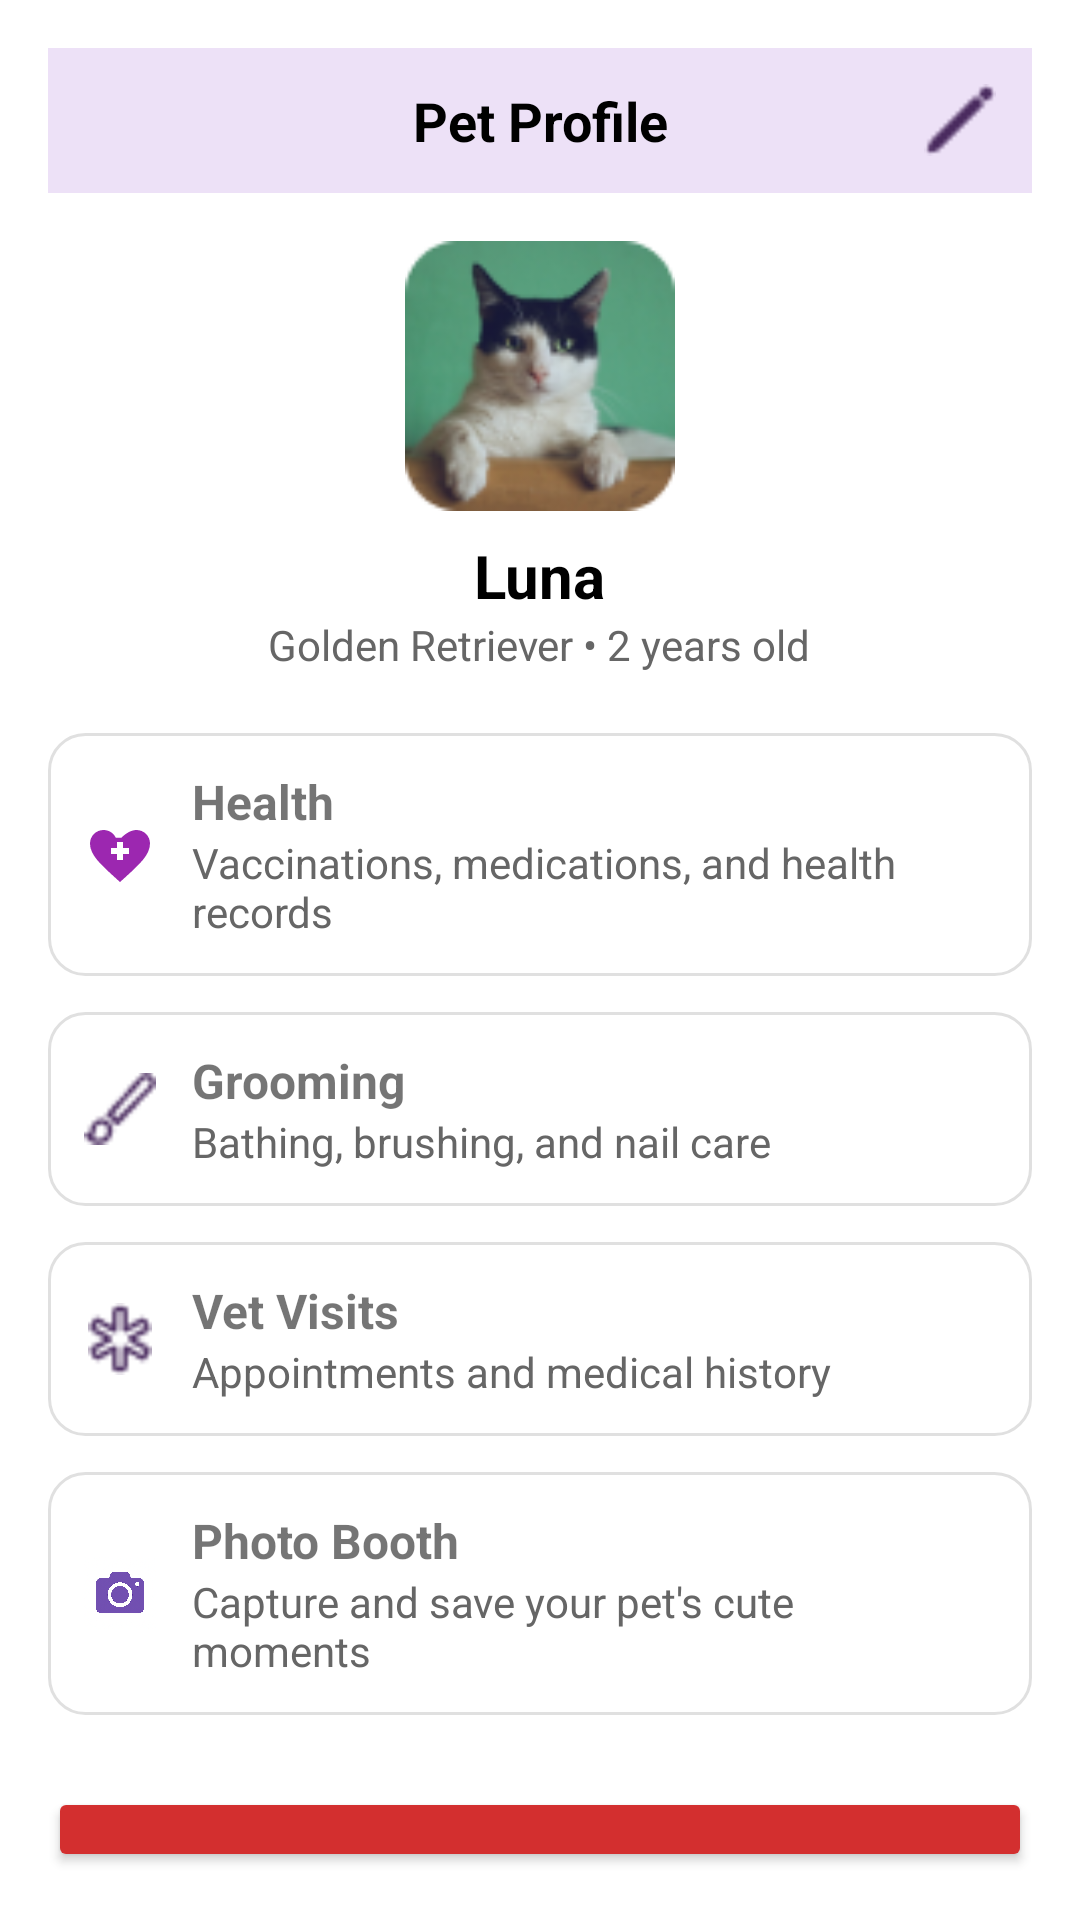

Point at icon controls on the screen. Image size 1080px×1920px, points as point (x, y).
camera: point (120, 1592)
Edit: point (960, 120)
